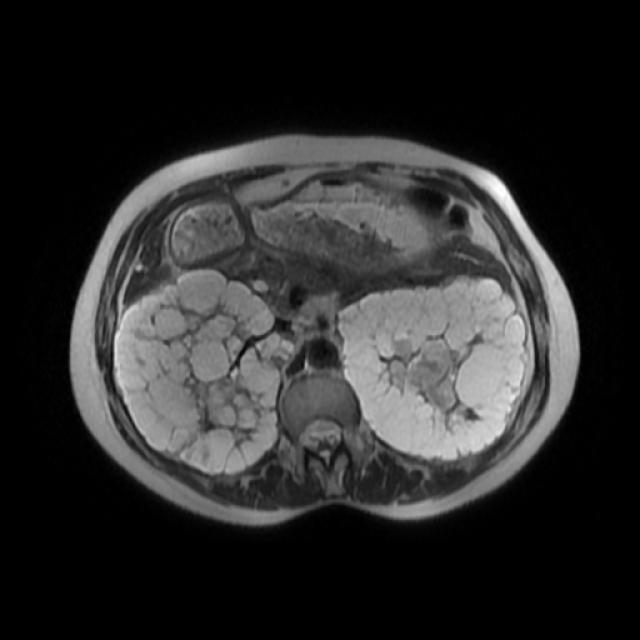sag: (111, 268, 295, 477)
sol: (336, 274, 528, 469)
